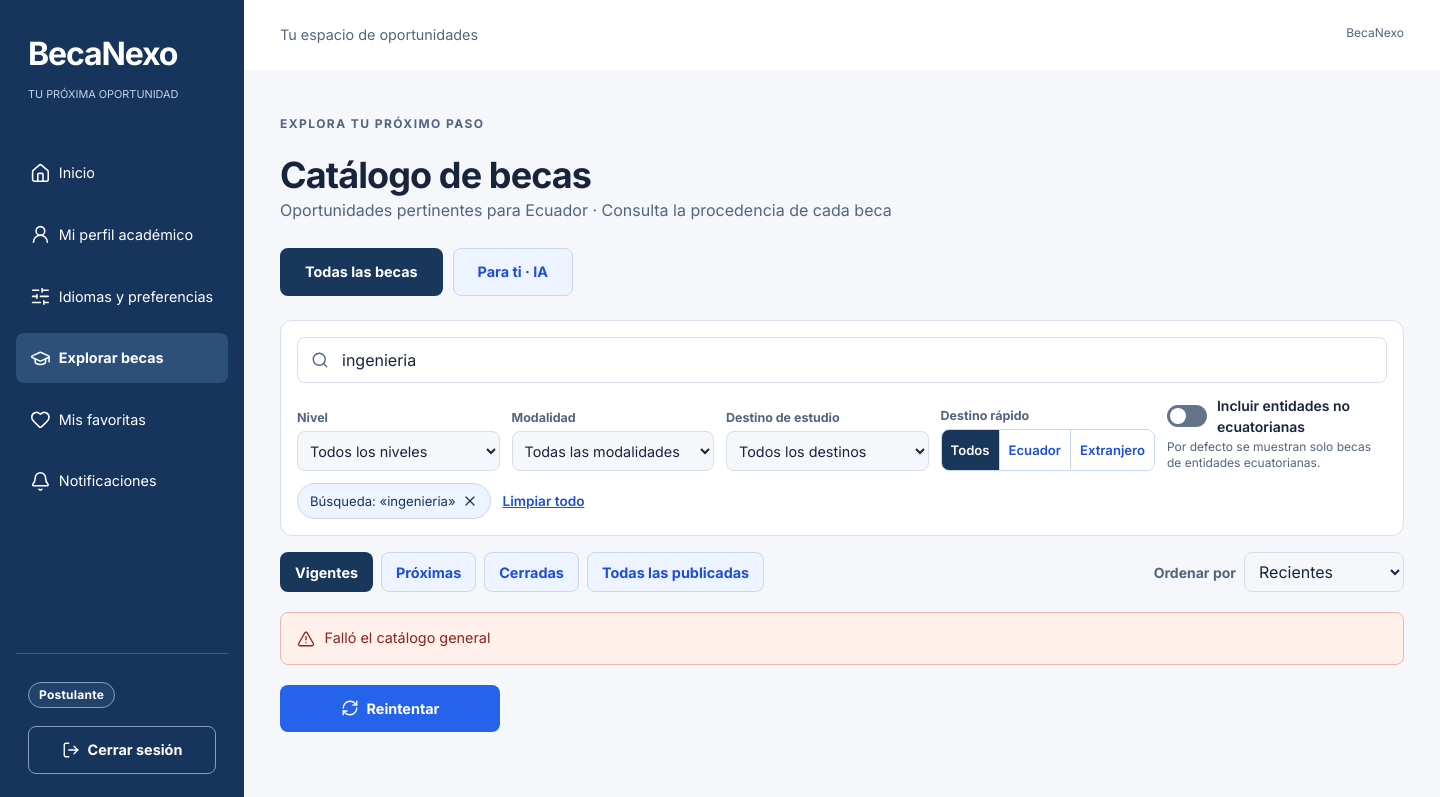
permite ver recomendaciones aunque falle el listado general
Expected: the text "Falló el catálogo general" is shown, [325, 627, 490, 650]
Click the button "Para ti · IA": {"x": 513, "y": 272} [453, 248, 573, 296]
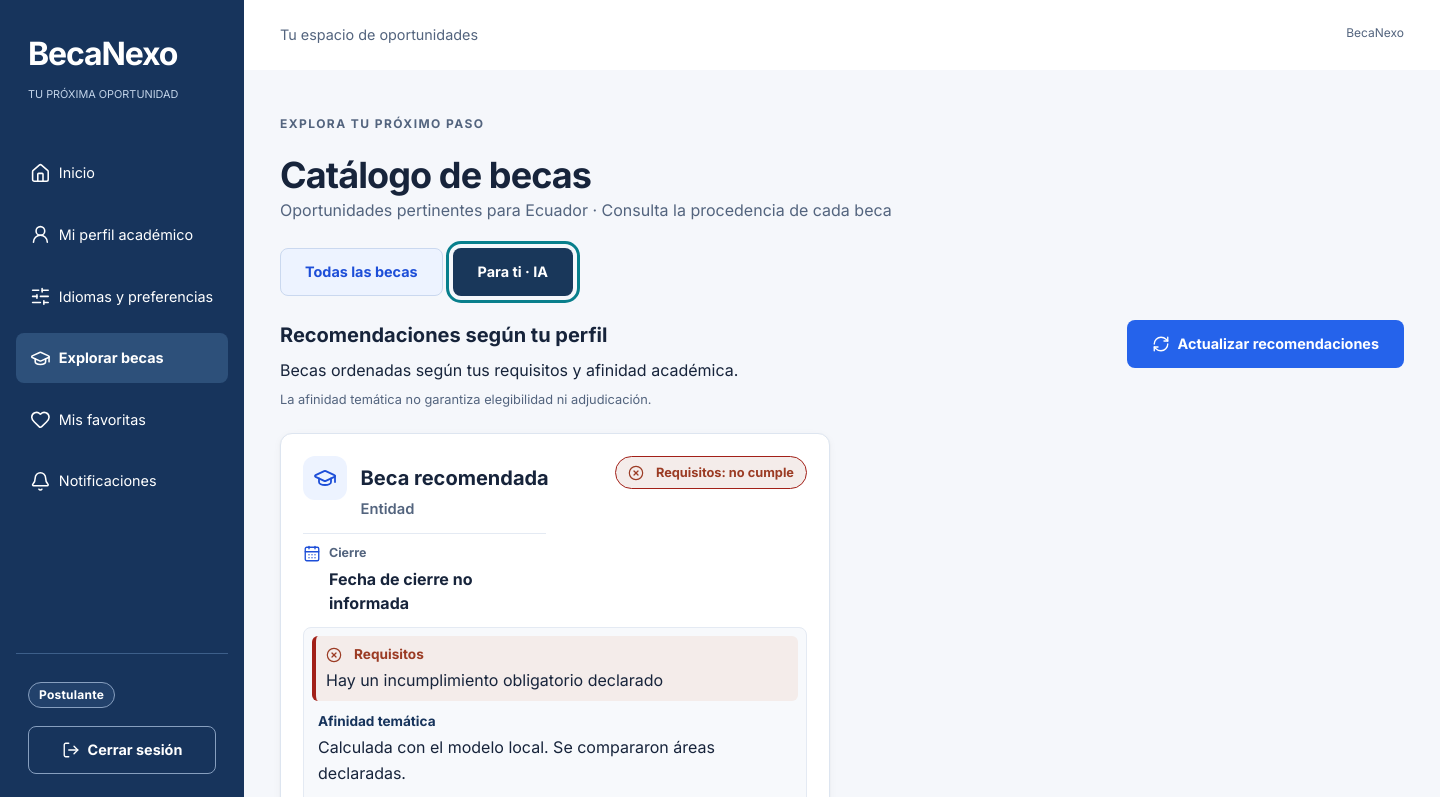
Now the heading "Beca recomendada" is shown, box [361, 466, 549, 490]
Now the text "Falló el catálogo general" is gone
